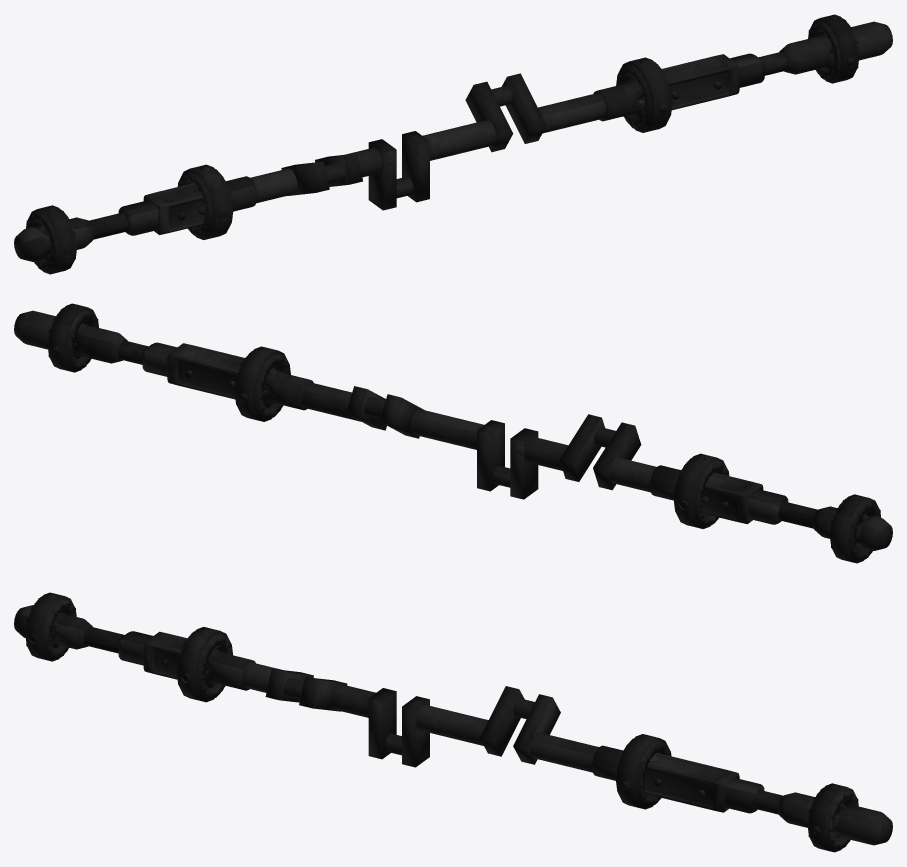
The model's file is shaft.obj.
3 views of the same model, one above another, from view 1: azimuth 30°, elevation 25°; view 2: azimuth 150°, elevation 25°; view 3: azimuth 330°, elevation 25° (orthographic).
Visible parts, largest first — view 1: Tube.345_Tube.402; view 2: Tube.345_Tube.402; view 3: Tube.345_Tube.402.
Part boxes in pixels (left/top/right/bottom): Tube.345_Tube.402: left=14, top=14, right=892, bottom=274; Tube.345_Tube.402: left=14, top=303, right=892, bottom=563; Tube.345_Tube.402: left=14, top=592, right=892, bottom=852.
Bounding box in the file's own units: 3.49 × 0.3111 × 0.3461.
